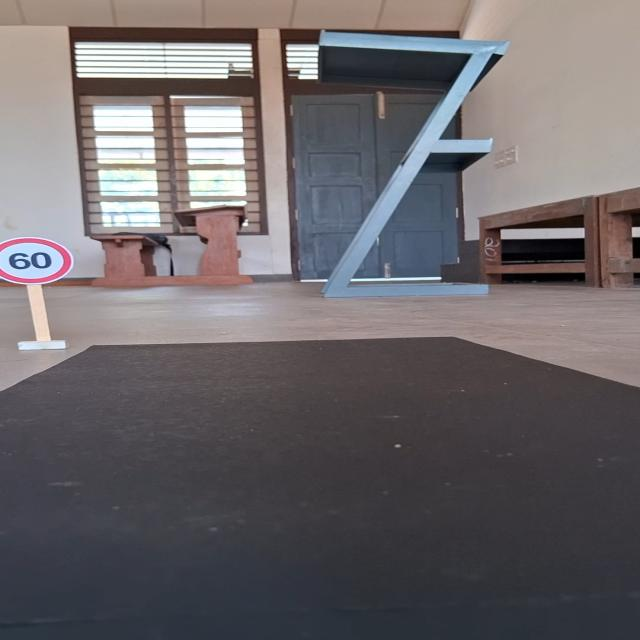Speed60: (0, 236, 74, 285)
